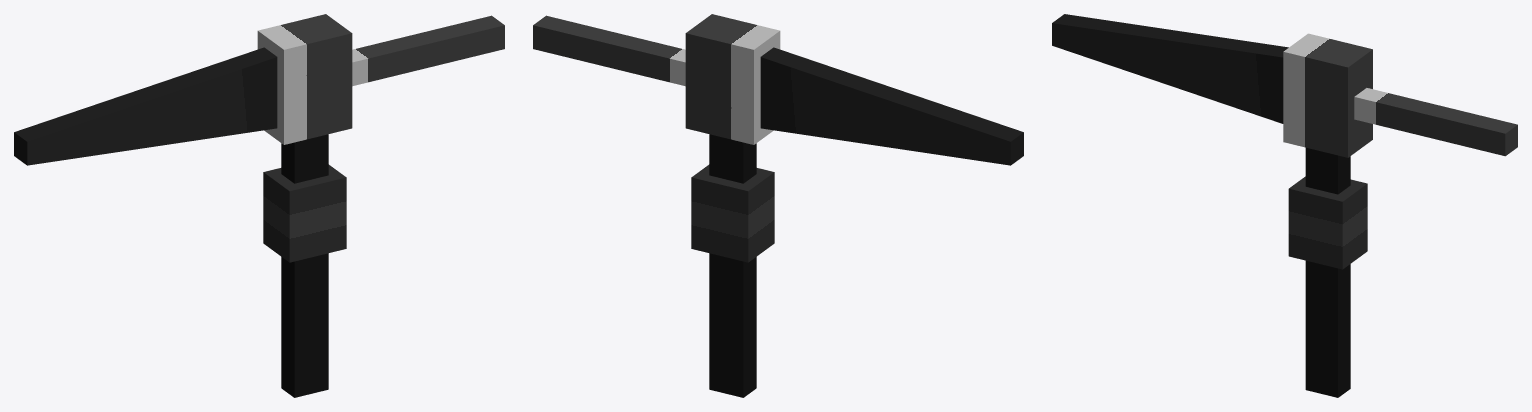
The model's file is welder.dae.
The picture shows the model from 3 angles, left to right: view 1: azimuth 30°, elevation 25°; view 2: azimuth 150°, elevation 25°; view 3: azimuth 330°, elevation 25°; orthographic projection. The views are drawn at different scales.
Visible parts, largest first — view 1: cuboid; view 2: cuboid; view 3: cuboid.
Part boxes in pixels (x1,y1,x2,y2): cuboid: [14, 14, 504, 397]; cuboid: [533, 14, 1023, 397]; cuboid: [1052, 14, 1517, 397].
Size of the model in its own units: 1.31 by 0.9375 by 0.125.
Materials: 1 (1 with a texture image).
